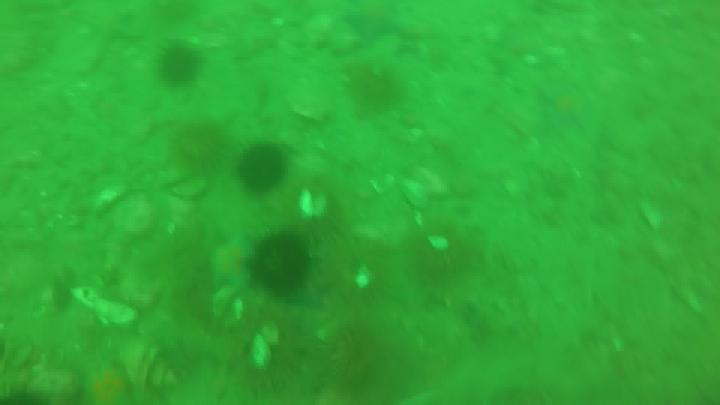echinus: (328, 324, 390, 393), (252, 230, 310, 294), (410, 225, 462, 287), (170, 118, 224, 174), (234, 146, 288, 193), (151, 44, 198, 89)
scallop: (212, 285, 245, 329), (251, 322, 280, 369), (400, 177, 428, 208), (298, 191, 329, 218), (98, 186, 123, 208), (355, 269, 375, 292)
starfish: (79, 361, 135, 405)
